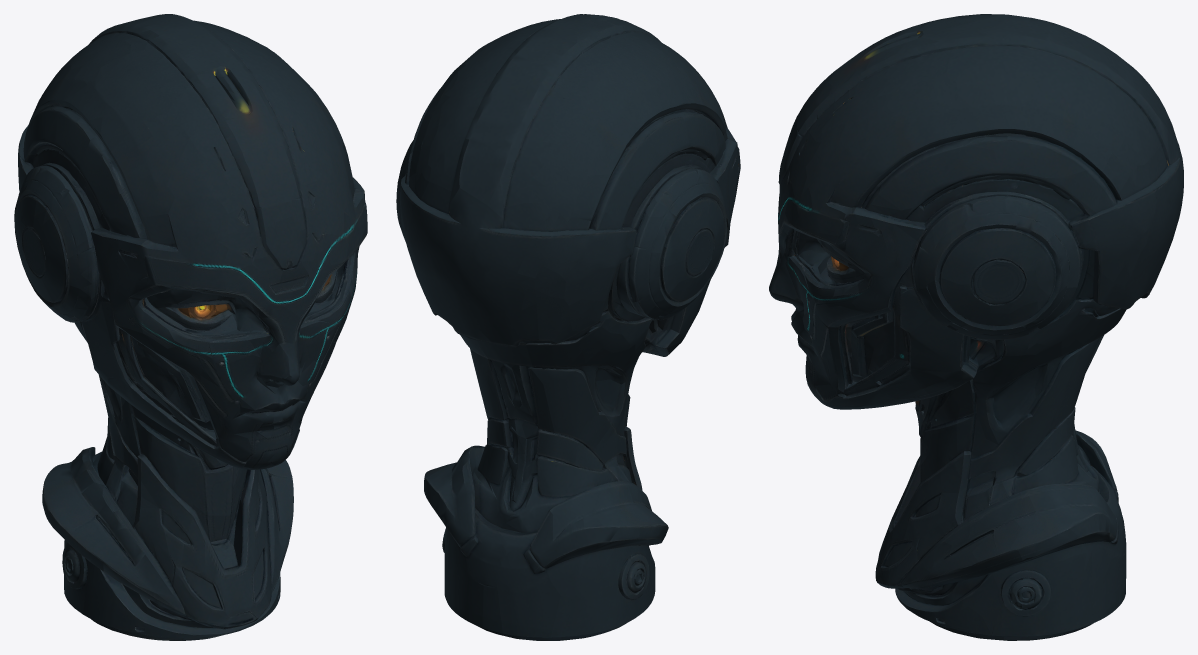
File: NEXUS-head.glb
3 views of the same model, side by side, from view 1: azimuth 30°, elevation 25°; view 2: azimuth 150°, elevation 25°; view 3: azimuth 270°, elevation 25° (orthographic). The views are drawn at different scales.
Parts seen in each view (by area): view 1: mesh_node; view 2: mesh_node; view 3: mesh_node.
Part boxes in pixels (left/top/right/bottom): mesh_node: left=14, top=14, right=367, bottom=640; mesh_node: left=396, top=14, right=740, bottom=640; mesh_node: left=769, top=14, right=1183, bottom=640.
Bounding box in the file's own units: 1.03 × 1.9 × 1.24.
1 material, 1 textured.
